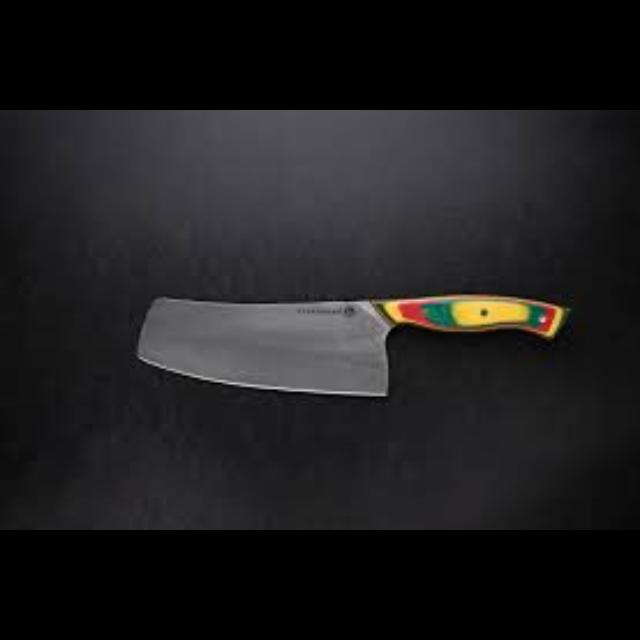Knife: (135, 293, 573, 399)
